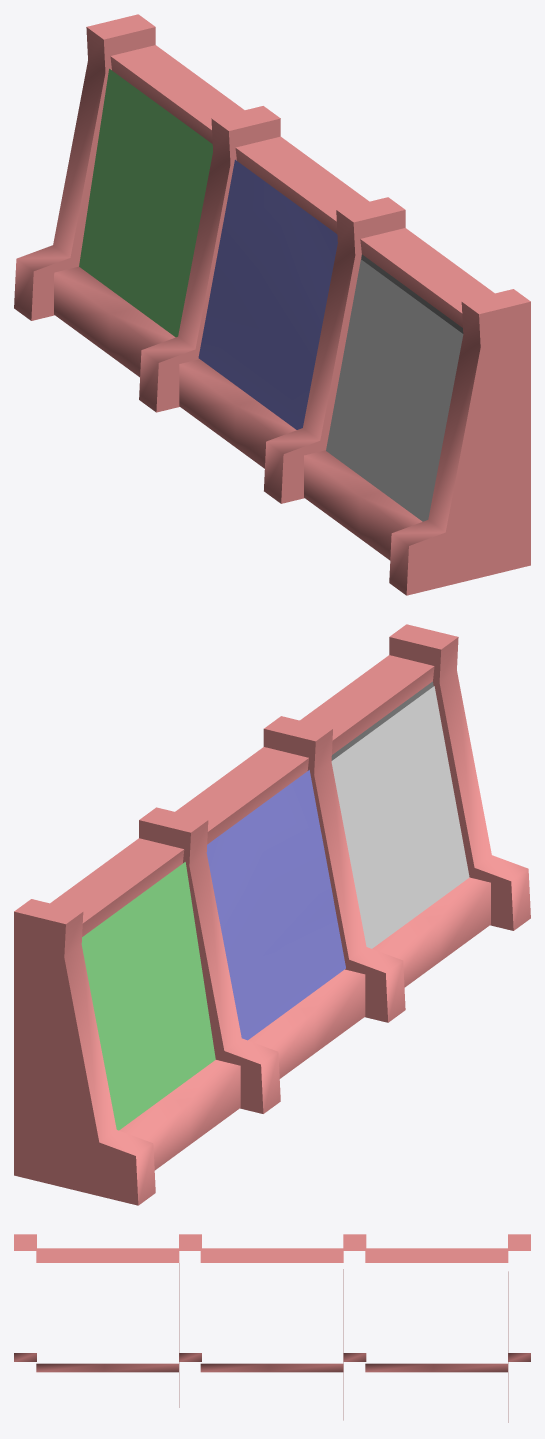
The model's file is Rune_Village_S__rune_c_amorboard.gltf.
3 renders of one model, top to bottom at view 1: azimuth 30°, elevation 25°; view 2: azimuth 150°, elevation 25°; view 3: azimuth 270°, elevation 25°, orthographic. The views are drawn at different scales.
Visible parts, largest first — view 1: rune_c_amorboard; view 2: rune_c_amorboard; view 3: rune_c_amorboard.
Boxes of the visible parts, x1=… form: rune_c_amorboard: x1=14, y1=14, x2=530, y2=595; rune_c_amorboard: x1=14, y1=624, x2=530, y2=1205; rune_c_amorboard: x1=14, y1=1234, x2=530, y2=1422.
Bounding box in the file's own units: 0.3082 × 0.6247 × 1.68.
